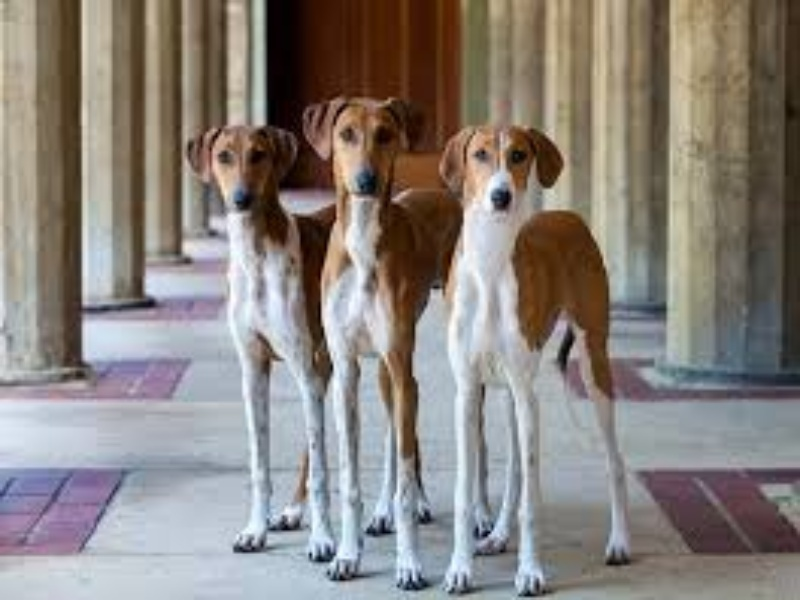dog: (437, 123, 646, 598), (302, 91, 440, 592), (186, 125, 342, 561)
